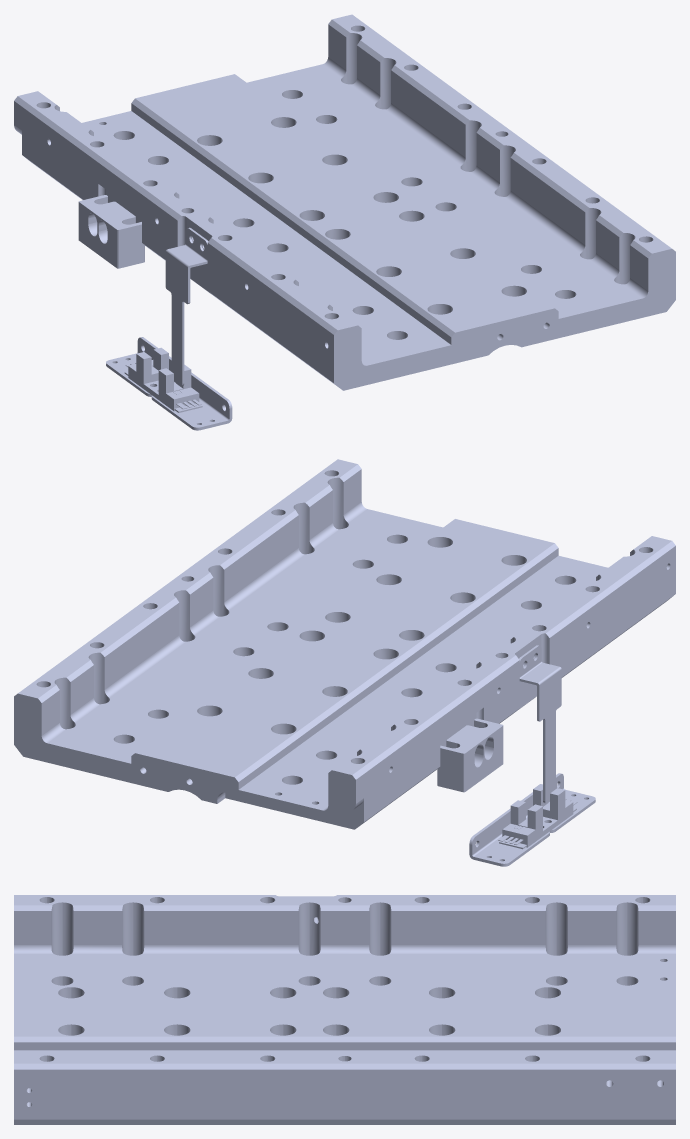
File: MTB-15.glb
The picture shows the model from 3 angles, top to bottom: view 1: azimuth 30°, elevation 25°; view 2: azimuth 150°, elevation 25°; view 3: azimuth 270°, elevation 25°; orthographic projection. The views are drawn at different scales.
Parts seen in each view (by area): view 1: 178X-12-MTB15-23092101_node; view 2: 178X-12-MTB15-23092101_node; view 3: 178X-12-MTB15-23092101_node.
Part boxes in pixels (left/top/right/bottom): 178X-12-MTB15-23092101_node: left=14, top=14, right=675, bottom=430; 178X-12-MTB15-23092101_node: left=14, top=459, right=675, bottom=866; 178X-12-MTB15-23092101_node: left=14, top=895, right=675, bottom=1124.
Bounding box in the file's own units: 202 × 89 × 300.
